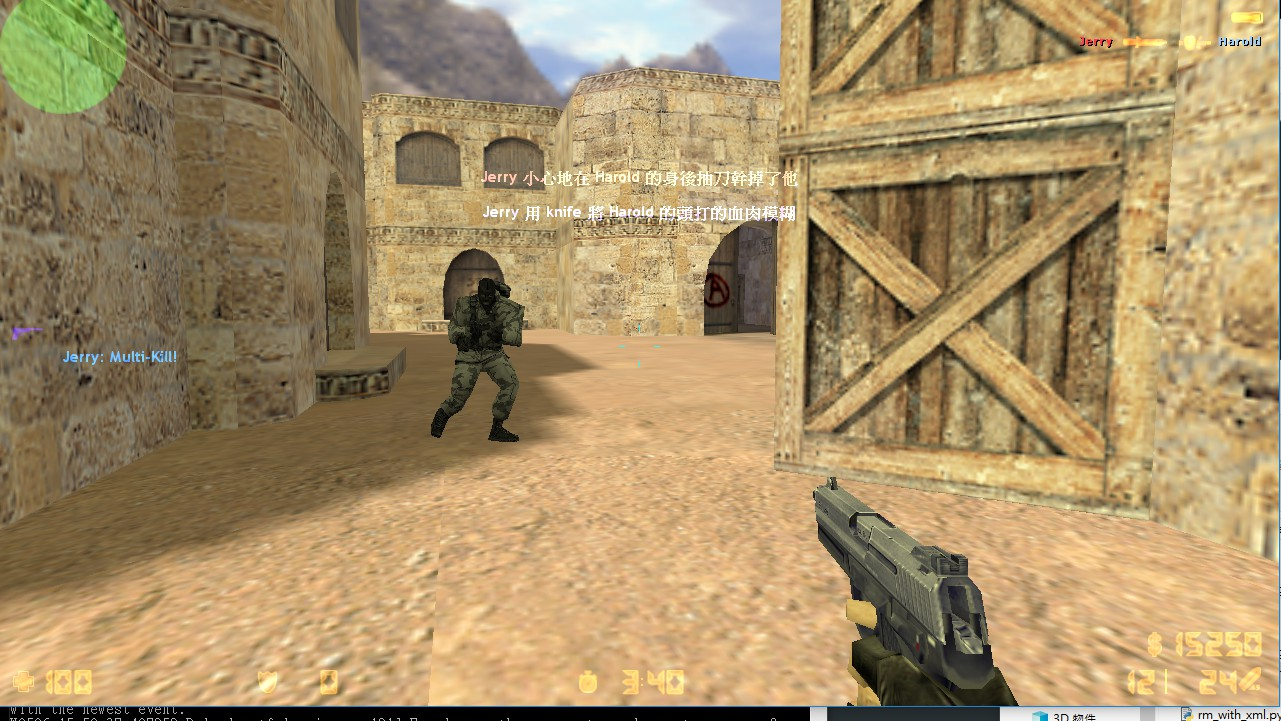person: (432, 272, 542, 453)
